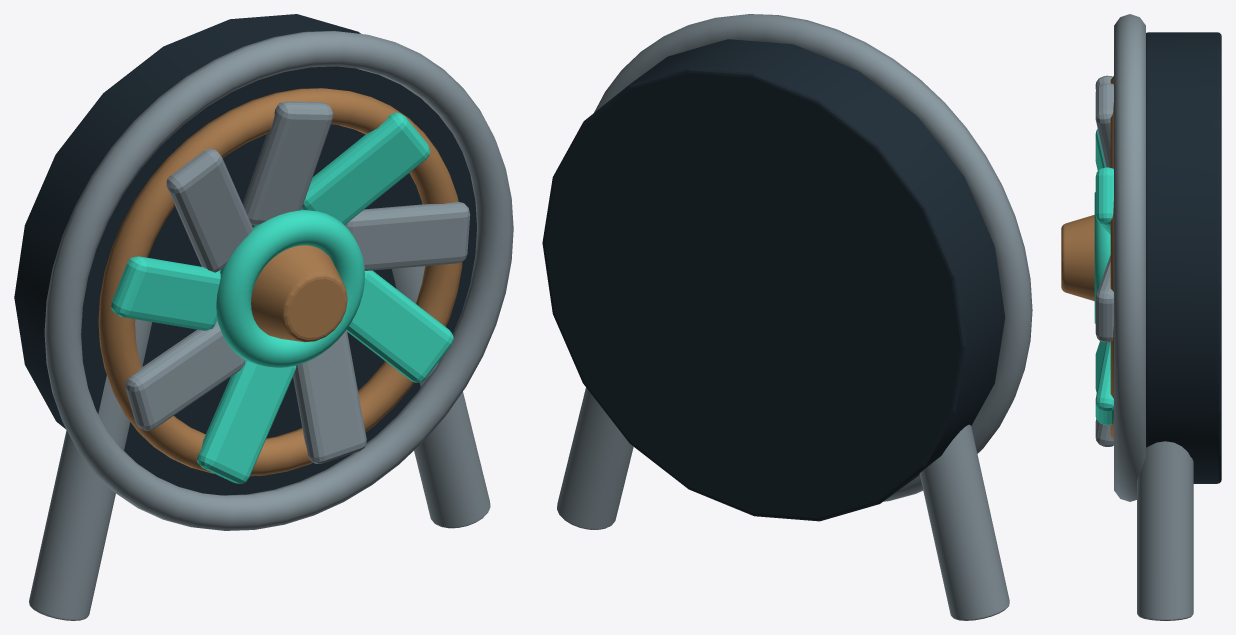
The model's file is chamber_landmark.glb.
3 renders of one model, left to right at view 1: azimuth 30°, elevation 25°; view 2: azimuth 150°, elevation 25°; view 3: azimuth 270°, elevation 25°, orthographic. The views are drawn at different scales.
Visible parts, largest first — view 1: chamber_landmark; view 2: chamber_landmark; view 3: chamber_landmark.
Boxes of the visible parts, x1,y1,x2,y2 form: chamber_landmark: (14, 14, 513, 620); chamber_landmark: (542, 14, 1032, 620); chamber_landmark: (1061, 14, 1221, 620).
Bounding box in the file's own units: 2.77 × 3.1 × 0.91.
